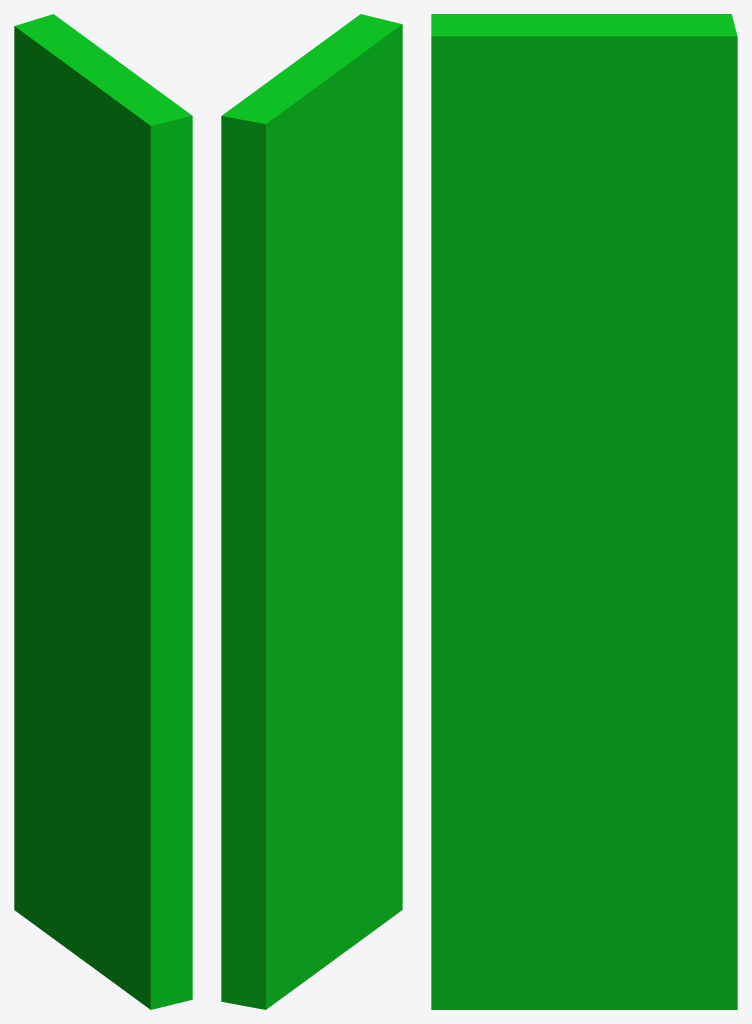
File: simple_example_hole_part_60.obj
3 renders of one model, left to right at view 1: azimuth 30°, elevation 25°; view 2: azimuth 150°, elevation 25°; view 3: azimuth 270°, elevation 25°, orthographic. The views are drawn at different scales.
Size of the model in its own units: 0.9183 by 18.6 by 5.3.
